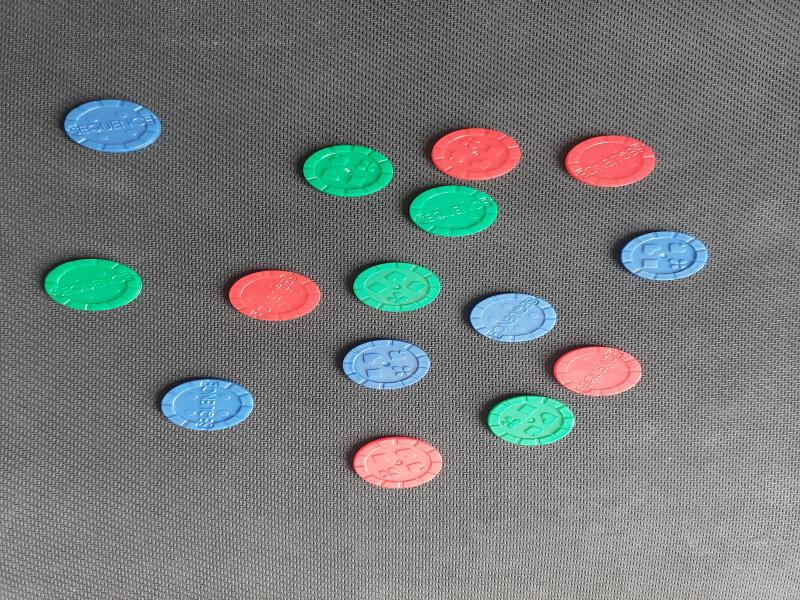Blue_Token: (46, 81, 189, 166), (593, 223, 724, 294), (452, 282, 575, 347), (150, 370, 277, 431), (298, 335, 430, 392)
Green_Token: (473, 386, 596, 457), (390, 181, 521, 247), (295, 135, 410, 207), (18, 252, 141, 313), (346, 253, 443, 324)
Red_Token: (533, 331, 655, 410), (538, 126, 666, 199), (422, 116, 551, 187), (339, 427, 462, 498), (224, 264, 331, 338)
